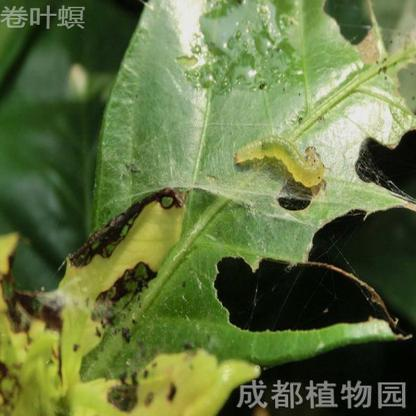leaf-folder: (229, 115, 335, 203)
